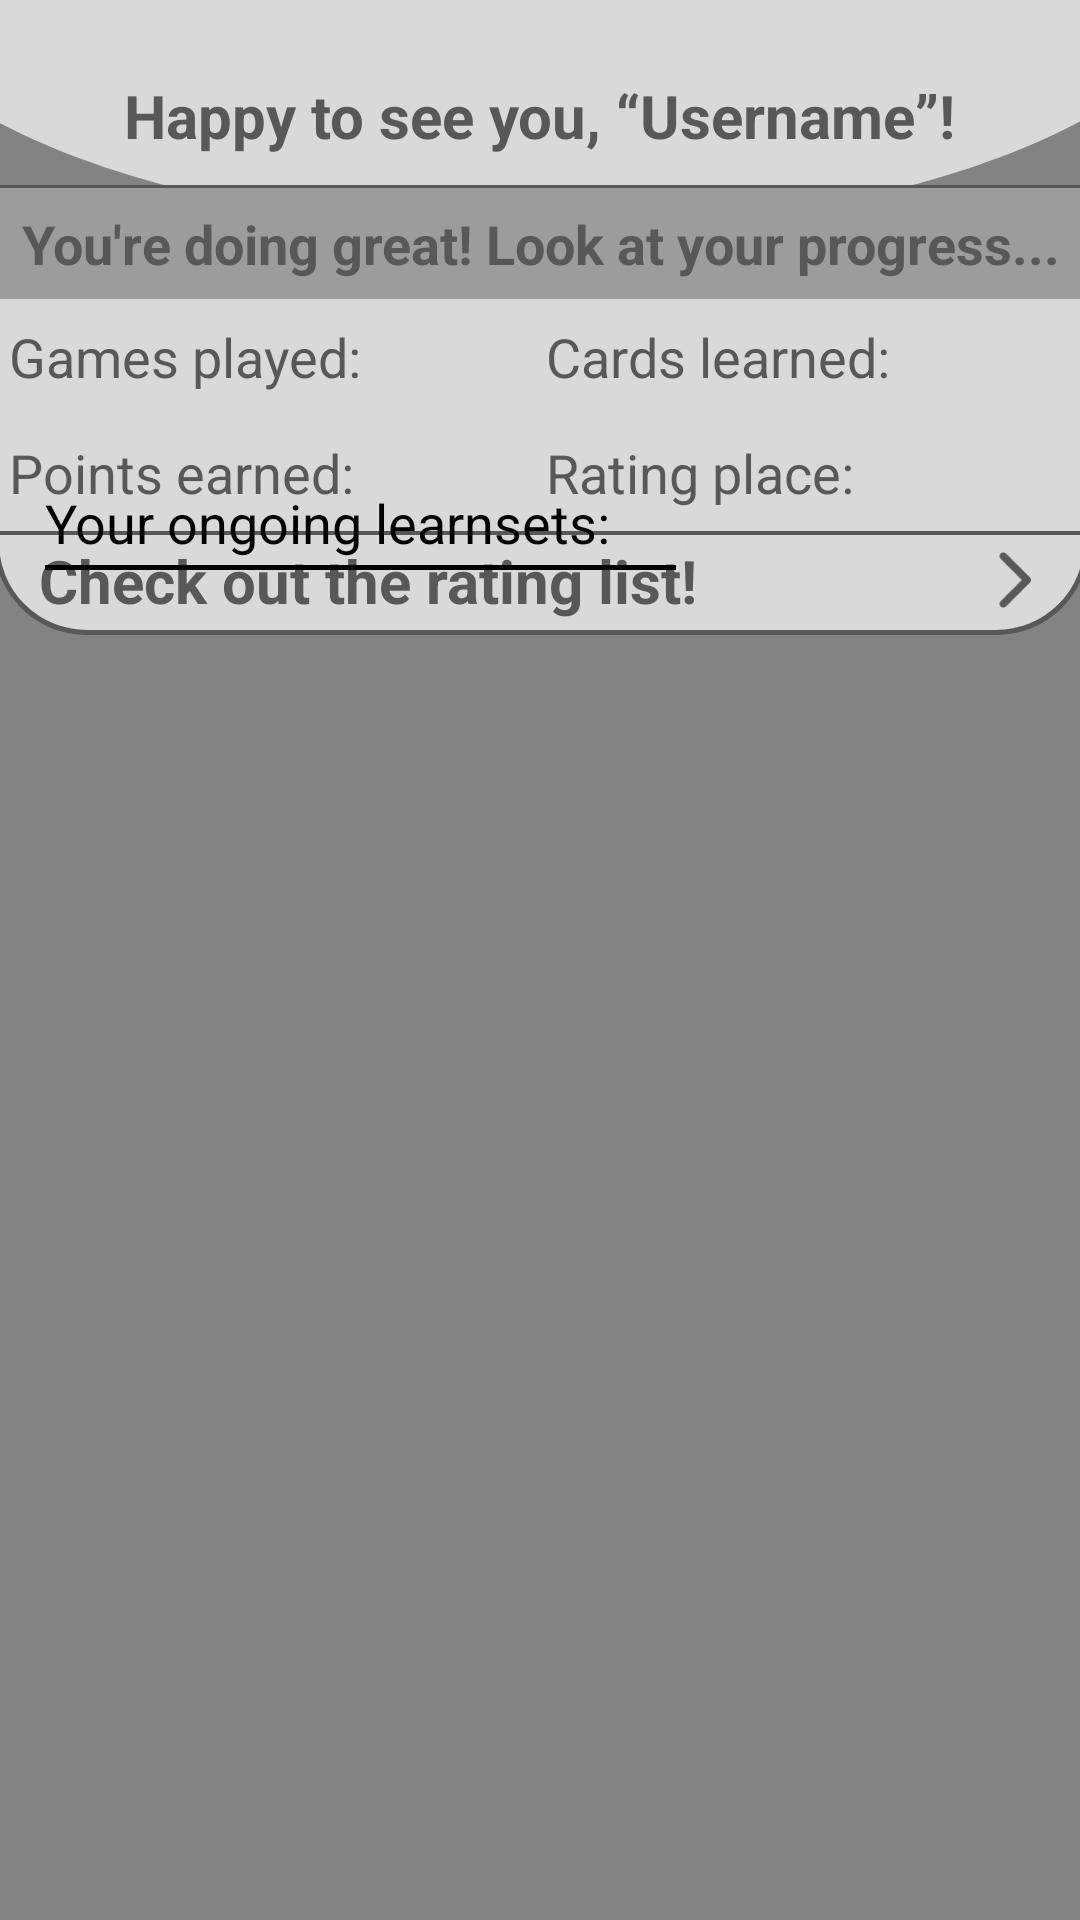

Named icons in this screenshot (1080 x 1920) and their centers, point (x, y):
arrow: point (1015, 580)
